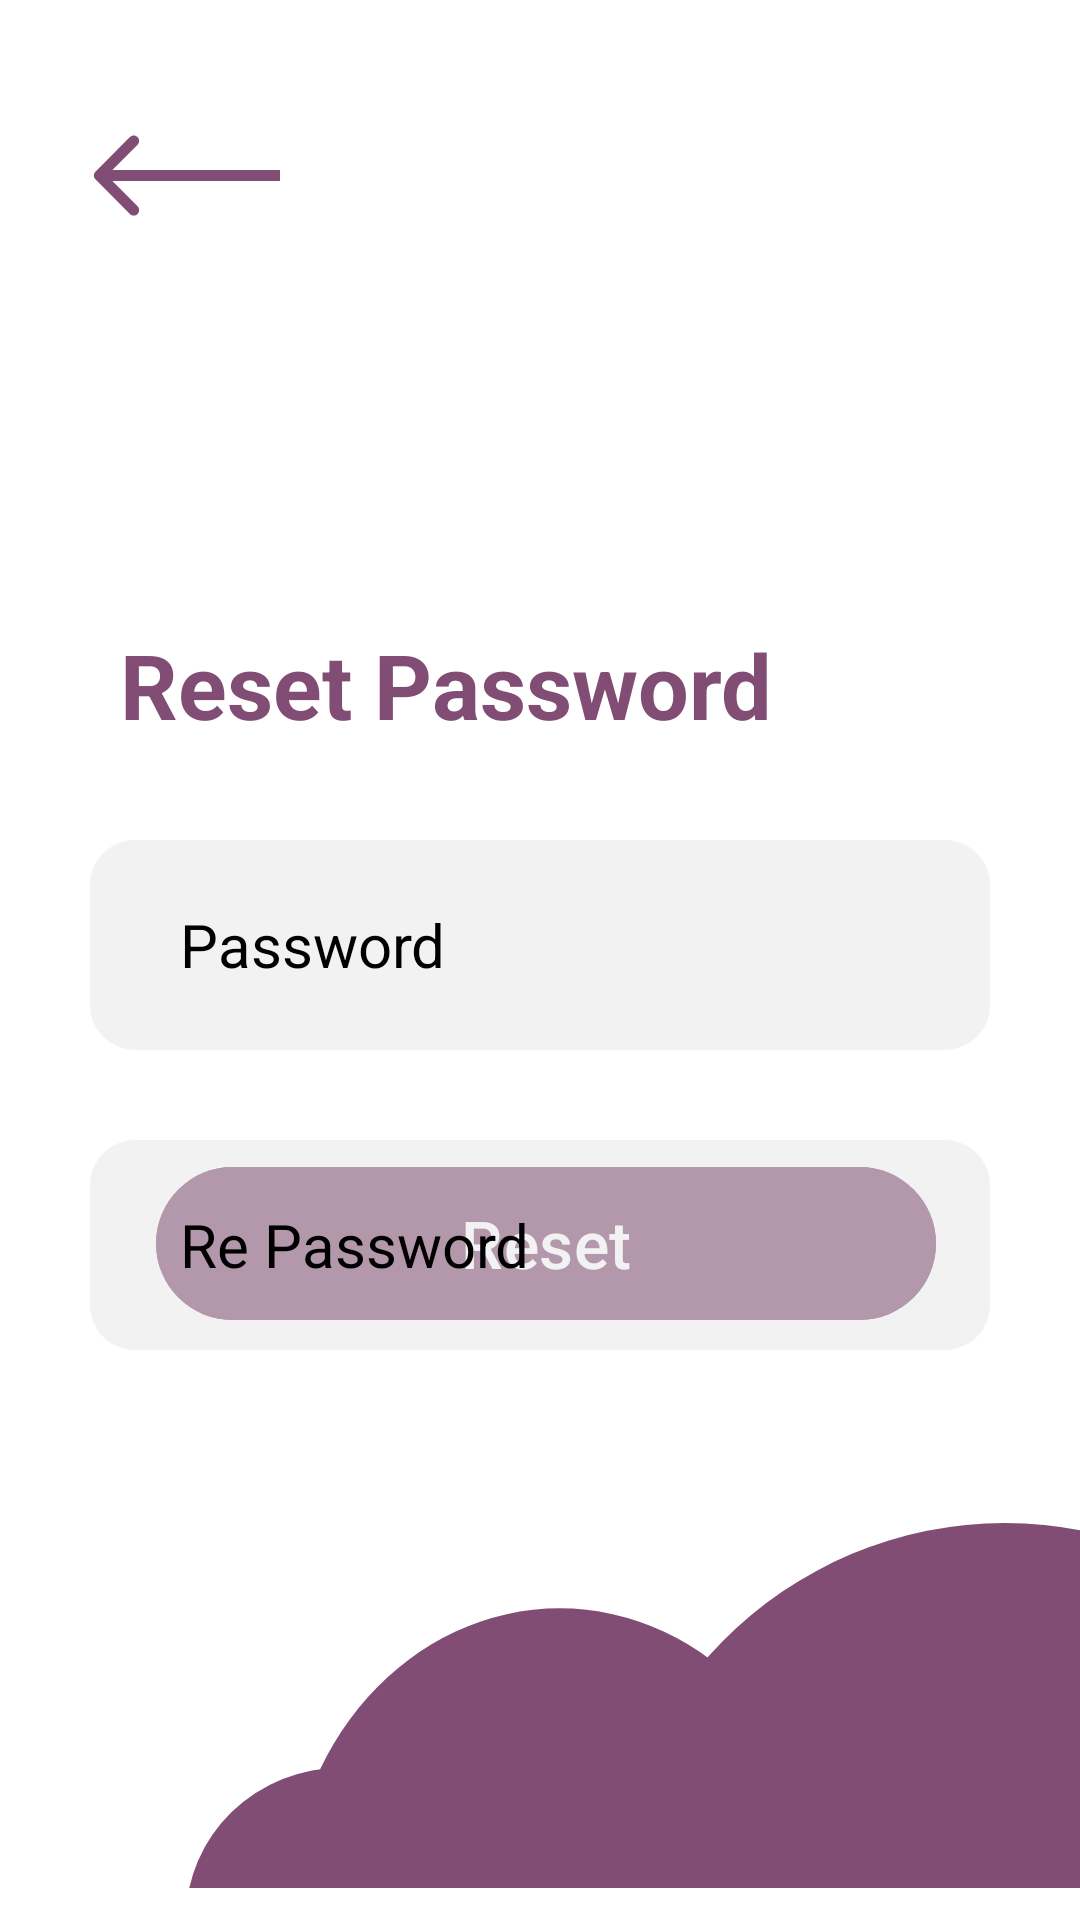

Where icons sit on this 1080x1920 app screen, as BBox(x1, y1, x2, y2):
back arrrow: BBox(93, 135, 280, 216)
